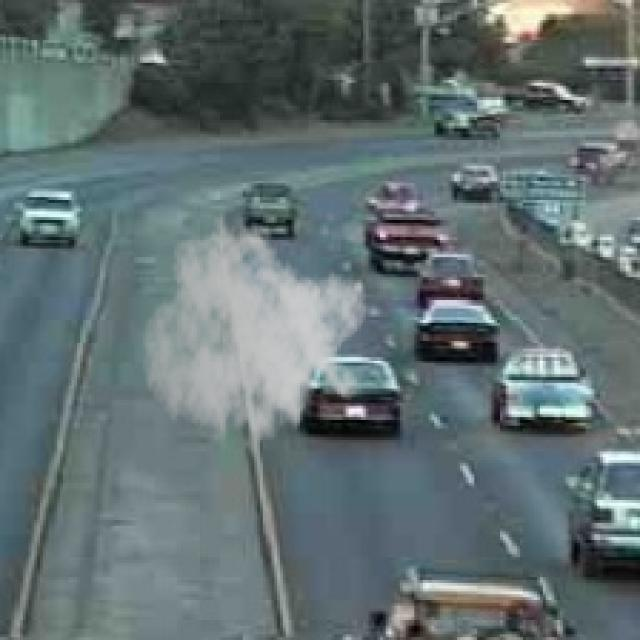smoke: (140, 214, 369, 472)
